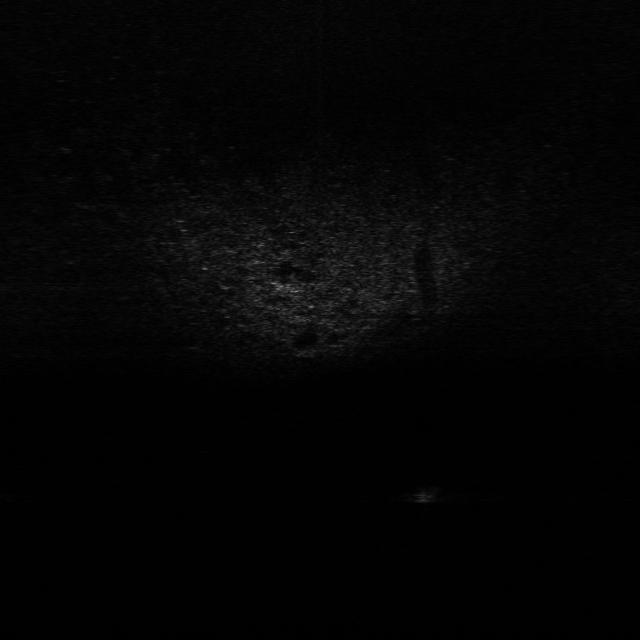cylinder: (409, 484, 448, 504)
